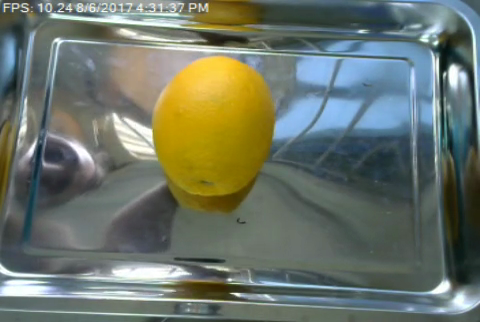Orange: (151, 55, 274, 195)
